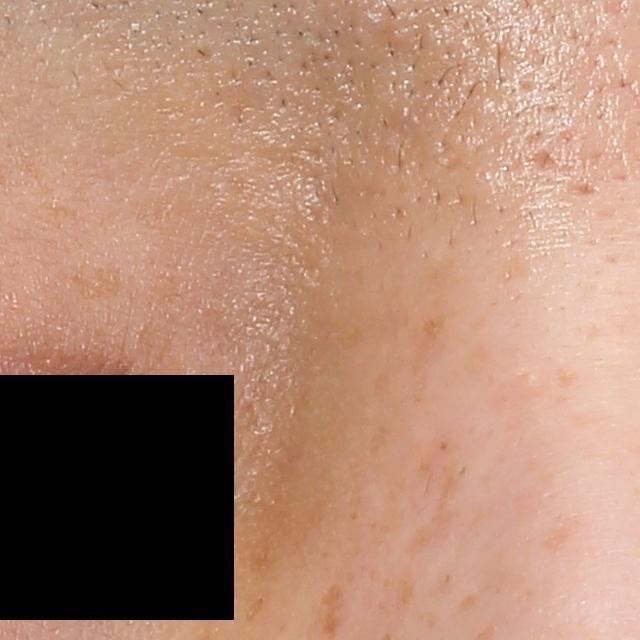atrophic_scar: (532, 148, 567, 176), (569, 182, 607, 201)
melasma: (395, 458, 464, 556), (449, 588, 487, 624), (542, 517, 581, 552), (418, 309, 453, 346), (391, 575, 418, 613), (368, 425, 392, 455)
